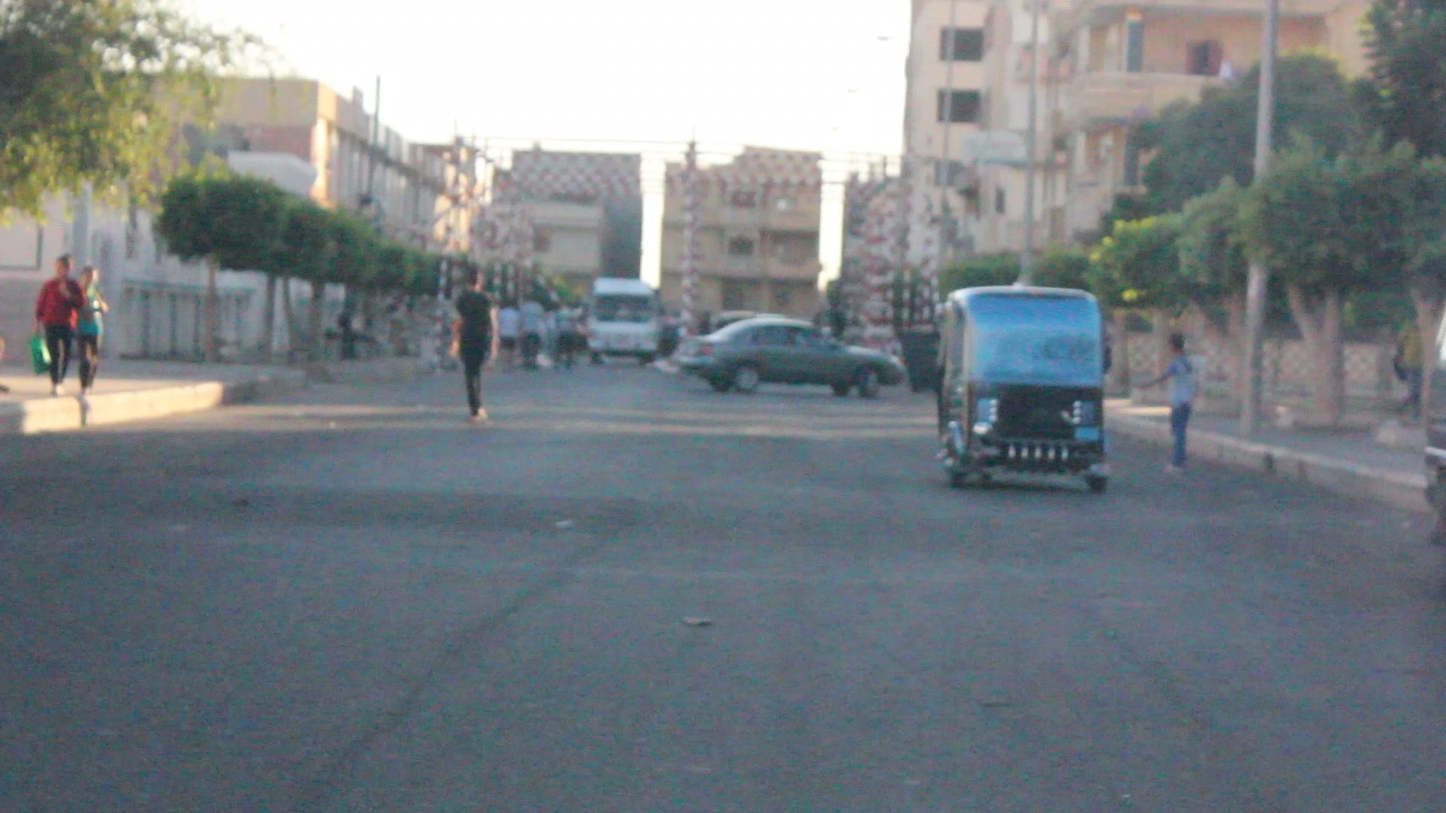Bump: (23, 446, 1446, 570)
